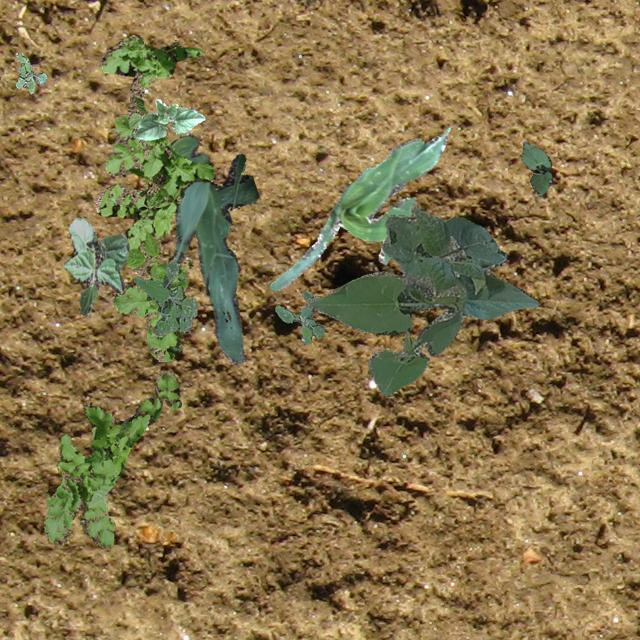crop: (308, 206, 538, 396), (268, 132, 446, 290), (170, 132, 258, 364), (61, 216, 128, 314), (132, 98, 204, 140), (520, 140, 550, 194)
weed: (92, 33, 214, 360), (42, 370, 180, 548), (132, 258, 196, 336), (274, 290, 324, 344), (14, 52, 46, 92)
